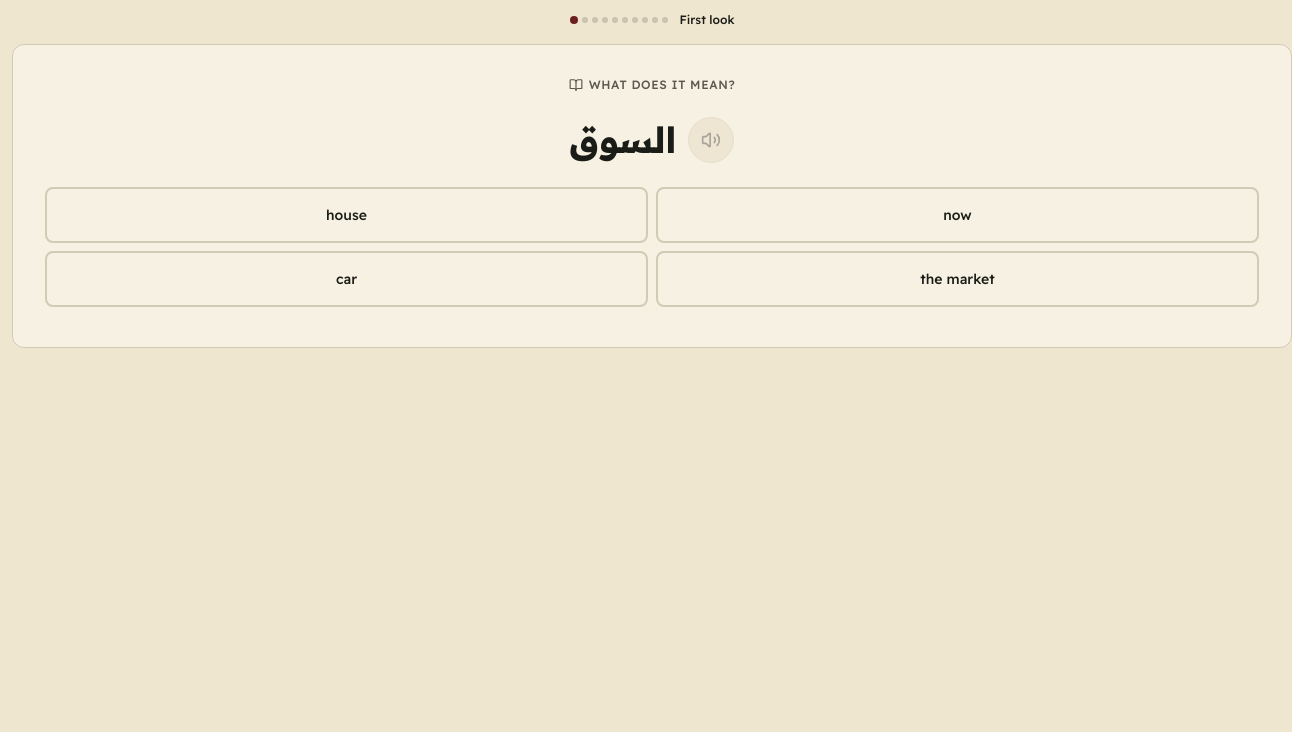
Test: why not this one? › names no word of another dialect, in a session that mixes them
The width and height of the screenshot is (1292, 732).
Click the radio button labelled "now" at (958, 215), box 656,187 -> 1259,243
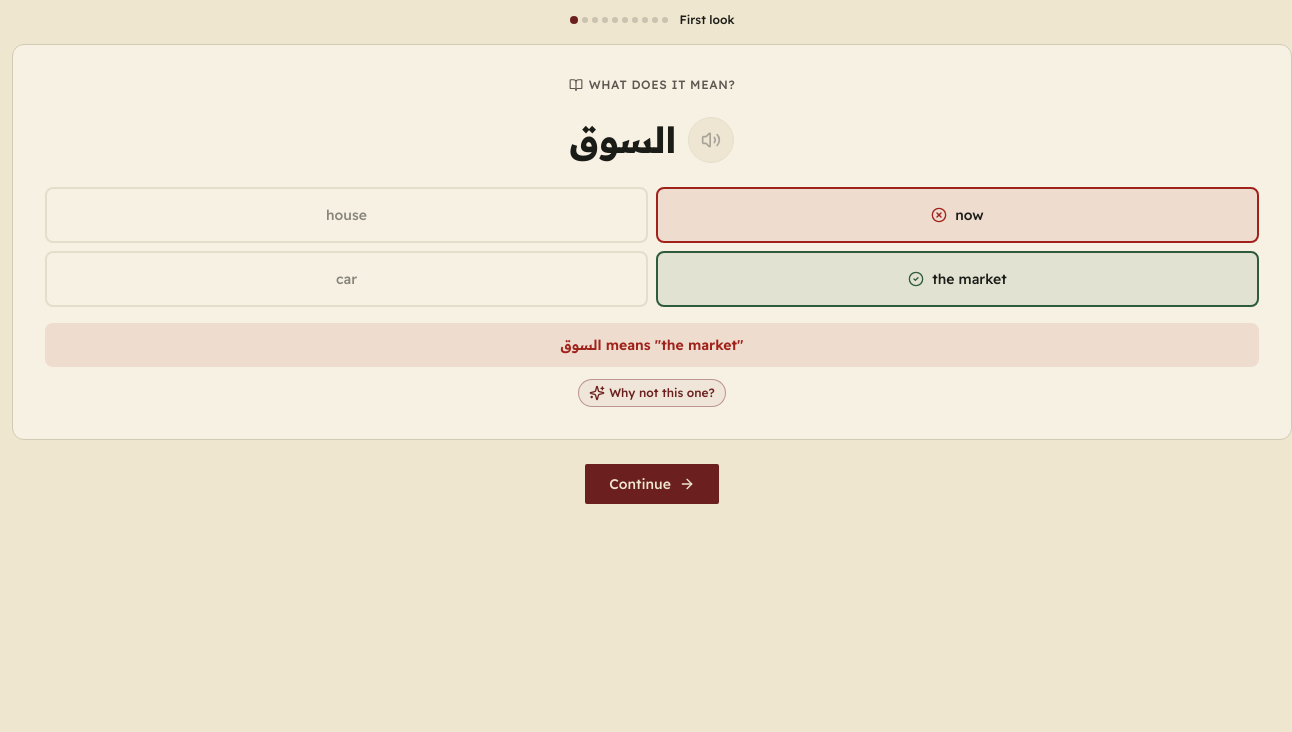
Click the button "Why not this one?" at (652, 393), box 578,379 -> 726,407
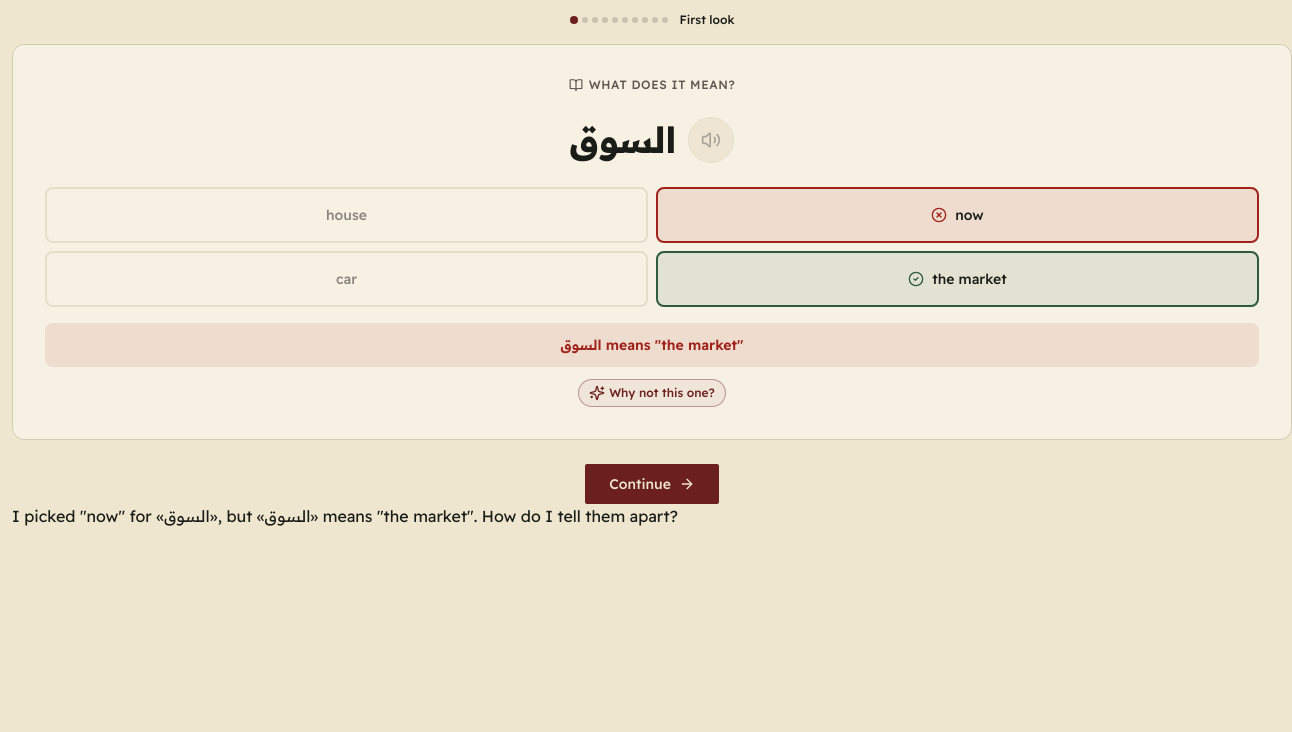
Expected: the text with test id "asked" does not show "دلوقتي", 12,506 -> 678,526
Expected: the text with test id "asked" shows "I picked \"now\" for «السوق»", 12,506 -> 678,526
